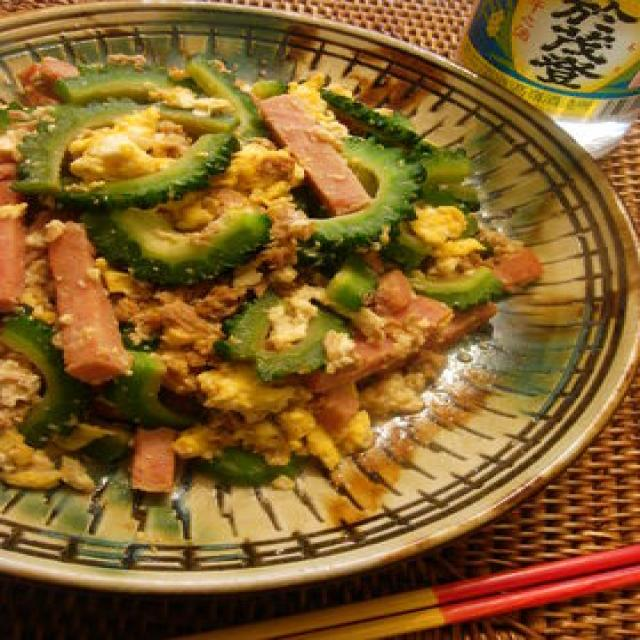熟制海鲜: (0, 0, 640, 594)
